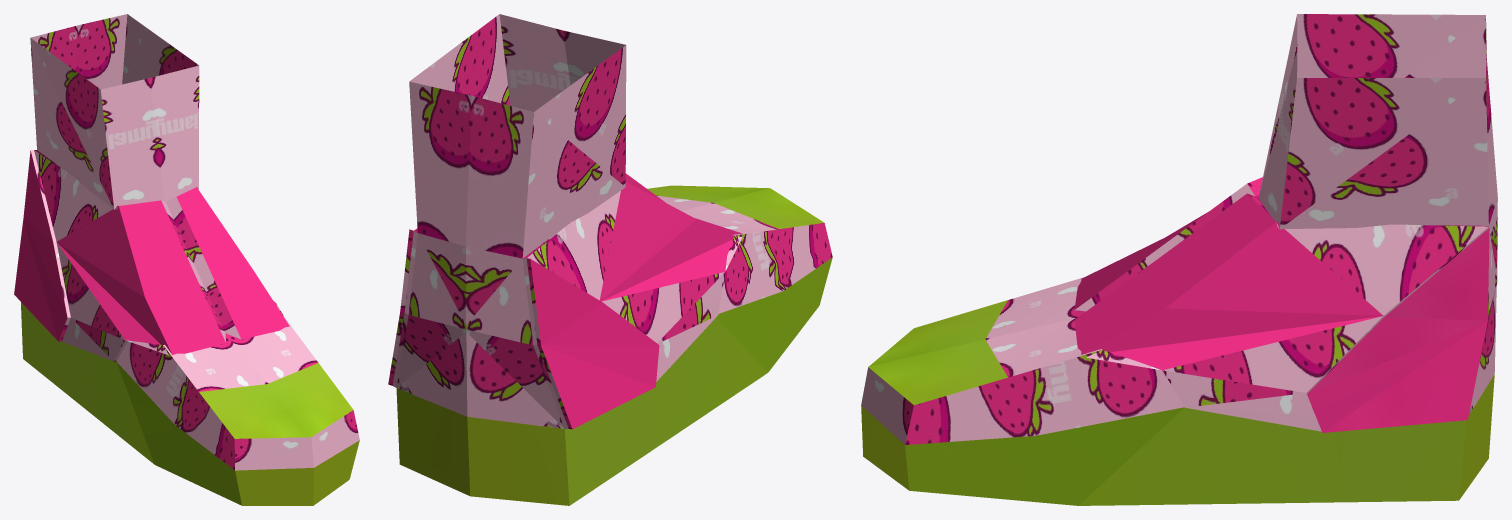
The model's file is sizetest.fbx.
The picture shows the model from 3 angles, left to right: view 1: azimuth 30°, elevation 25°; view 2: azimuth 150°, elevation 25°; view 3: azimuth 270°, elevation 25°; orthographic projection. The views are drawn at different scales.
Parts seen in each view (by area): view 1: Cube; view 2: Cube; view 3: Cube.
Part boxes in pixels (x1,y1,x2,y2): Cube: (14,14,359,505); Cube: (388,14,832,505); Cube: (861,14,1497,505).
Size of the model in its own units: 232 by 420 by 587.
